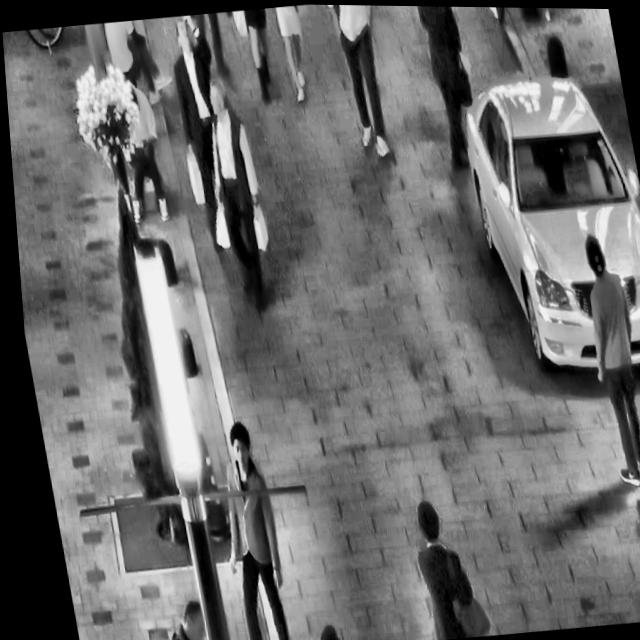light_vehicle: (443, 46, 640, 388)
